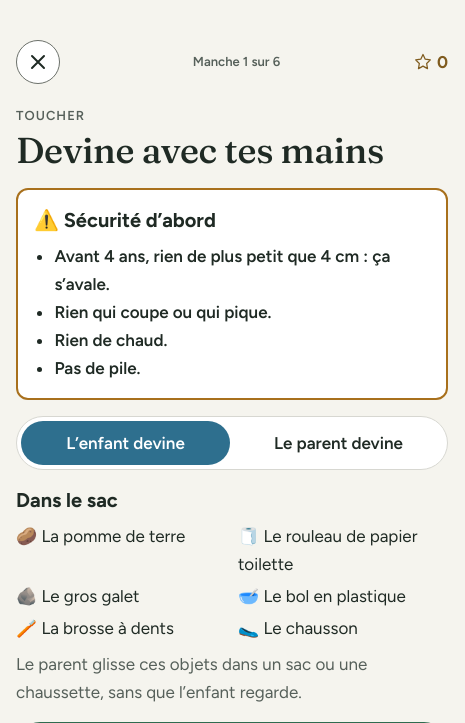
Devine avec tes mains › variante : l’enfant prépare le sac, le parent devine
The image size is (465, 723).
Click the radio button labelled "Le parent devine" at (338, 443), box [274,433,403,453]
(page scrolled)
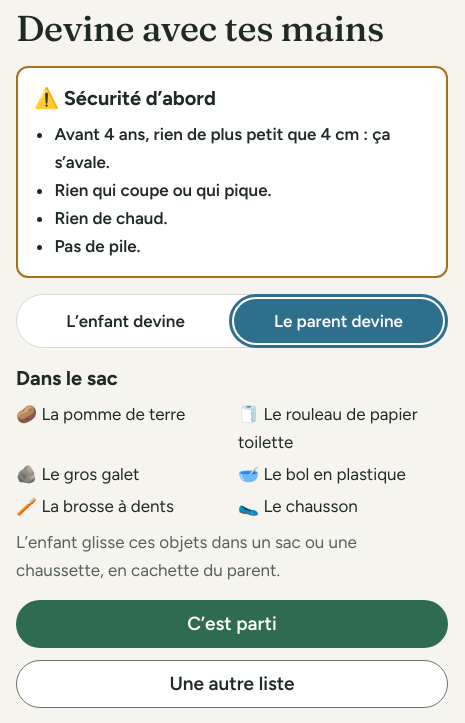
Expected: the text "en cachette du parent" is shown, [16,532,357,580]
Click the button "C’est parti" at (232, 624), box [16,600,448,648]
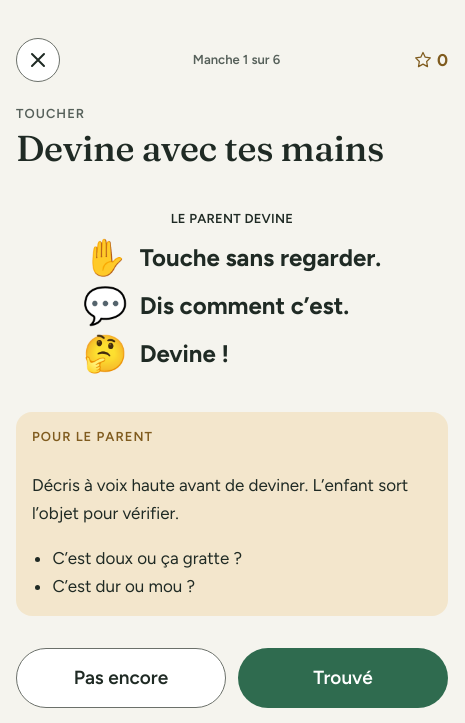
Expected: the element named "Manche" shows "Le parent devine", [171,211,293,226]
Expected: the element "Pour le parent" shows "Décris à voix haute", [32,475,408,523]
